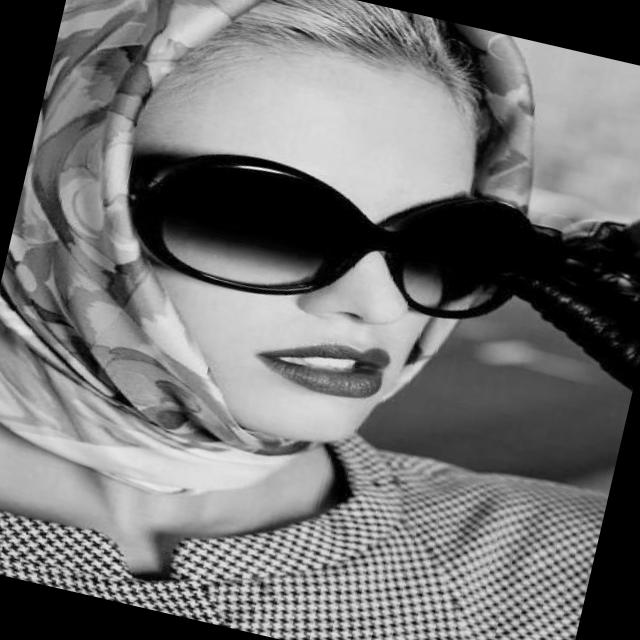glasses: (114, 122, 545, 354)
